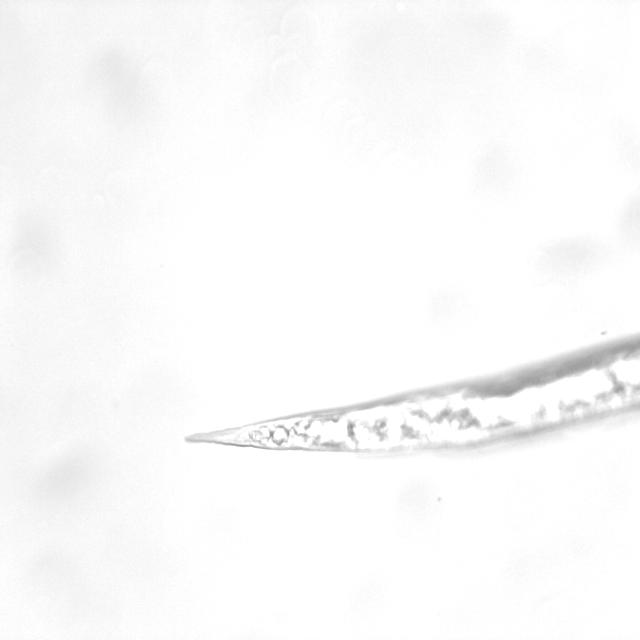Meloidogyne: (175, 386, 432, 467)
